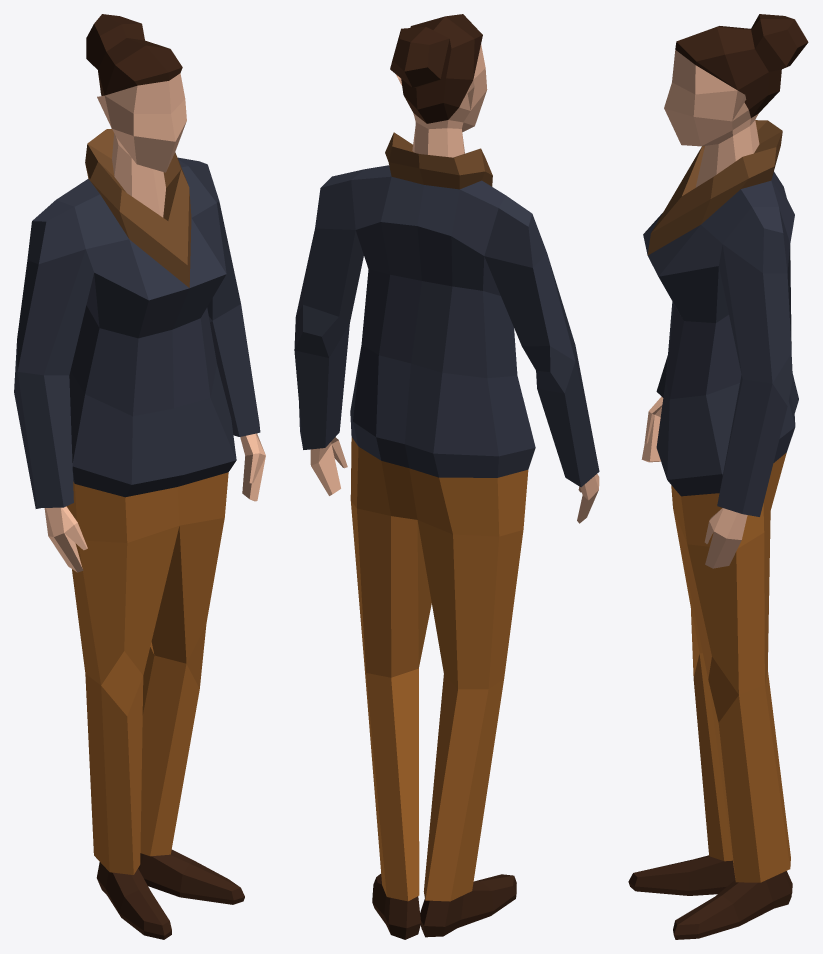
The model's file is AutumnWomanC.001.glb.
3 renders of one model, left to right at view 1: azimuth 30°, elevation 25°; view 2: azimuth 150°, elevation 25°; view 3: azimuth 270°, elevation 25°, orthographic. The views are drawn at different scales.
Parts seen in each view (by area): view 1: AutumnWomanC.001; view 2: AutumnWomanC.001; view 3: AutumnWomanC.001.
Boxes of the visible parts, bbox=[...] form: AutumnWomanC.001: bbox=[14, 14, 265, 939]; AutumnWomanC.001: bbox=[294, 14, 599, 939]; AutumnWomanC.001: bbox=[628, 14, 808, 939].
Bounding box in the file's own units: 0.5274 × 1.72 × 0.3187.
Materials: 1 (1 with a texture image).
